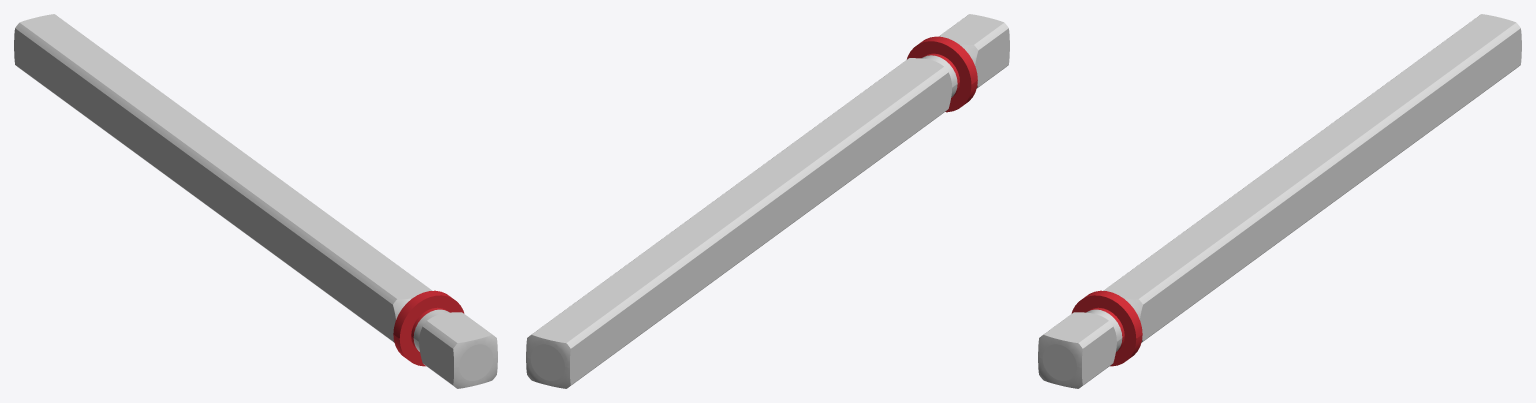
The model's file is 4x Pitch Motor Shaft (228-2500-2238).glb.
3 renders of one model, left to right at view 1: azimuth 30°, elevation 25°; view 2: azimuth 150°, elevation 25°; view 3: azimuth 330°, elevation 25°, orthographic.
Parts seen in each view (by area): view 1: 4x Pitch Motor Shaft (228-2500-2238); view 2: 4x Pitch Motor Shaft (228-2500-2238); view 3: 4x Pitch Motor Shaft (228-2500-2238).
Part boxes in pixels (x1=…): 4x Pitch Motor Shaft (228-2500-2238): x1=14, y1=14, x2=497, y2=388; 4x Pitch Motor Shaft (228-2500-2238): x1=526, y1=14, x2=1009, y2=388; 4x Pitch Motor Shaft (228-2500-2238): x1=1038, y1=14, x2=1521, y2=388.
Bounding box in the file's own units: 0.189 × 0.1882 × 2.18.
